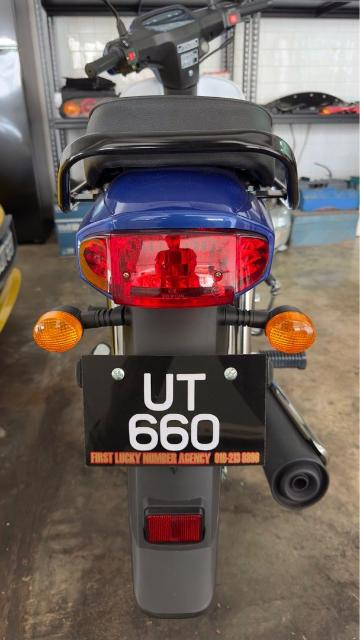License_Plate: (79, 354, 268, 468)
motorcycle: (33, 2, 332, 621)
